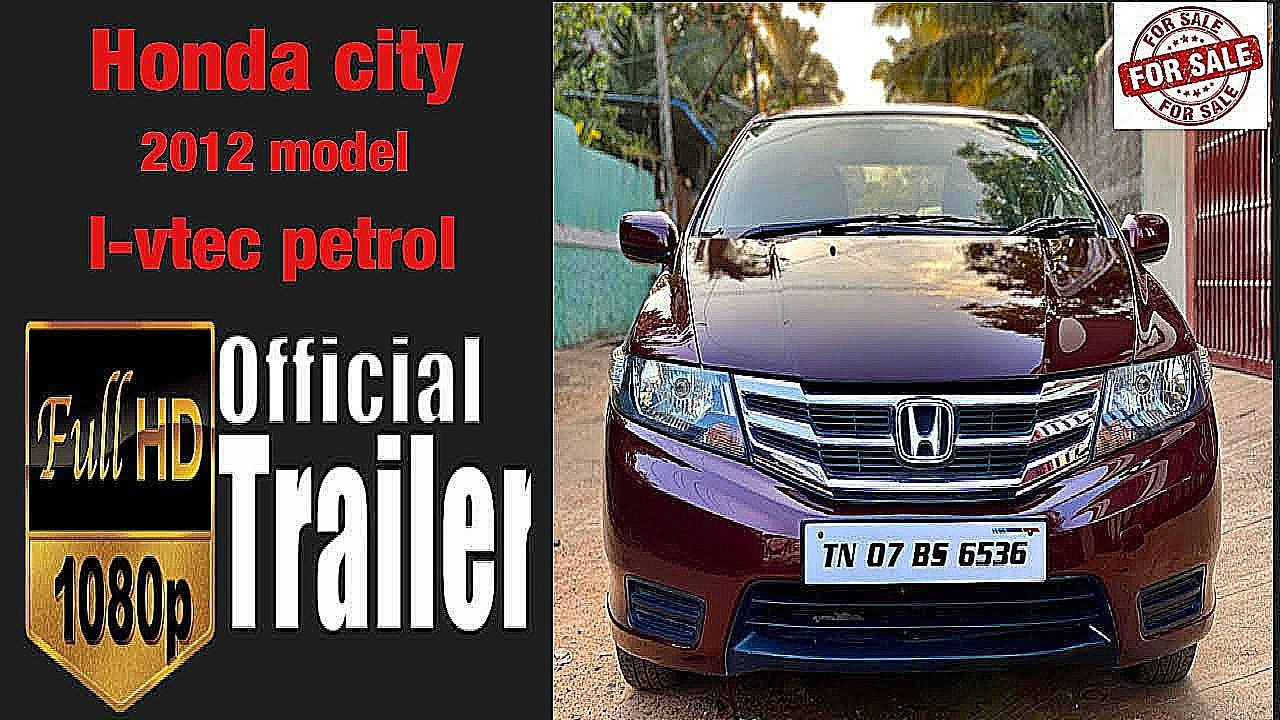Car hood: (624, 230, 1195, 388)
Front bumper: (587, 436, 1247, 686)
Headlight - -L-: (1086, 346, 1220, 461)
Headlight - -R-: (602, 342, 755, 470)
Side mirror - -L-: (1107, 203, 1179, 270)
Side mirror - -R-: (607, 202, 691, 275)
